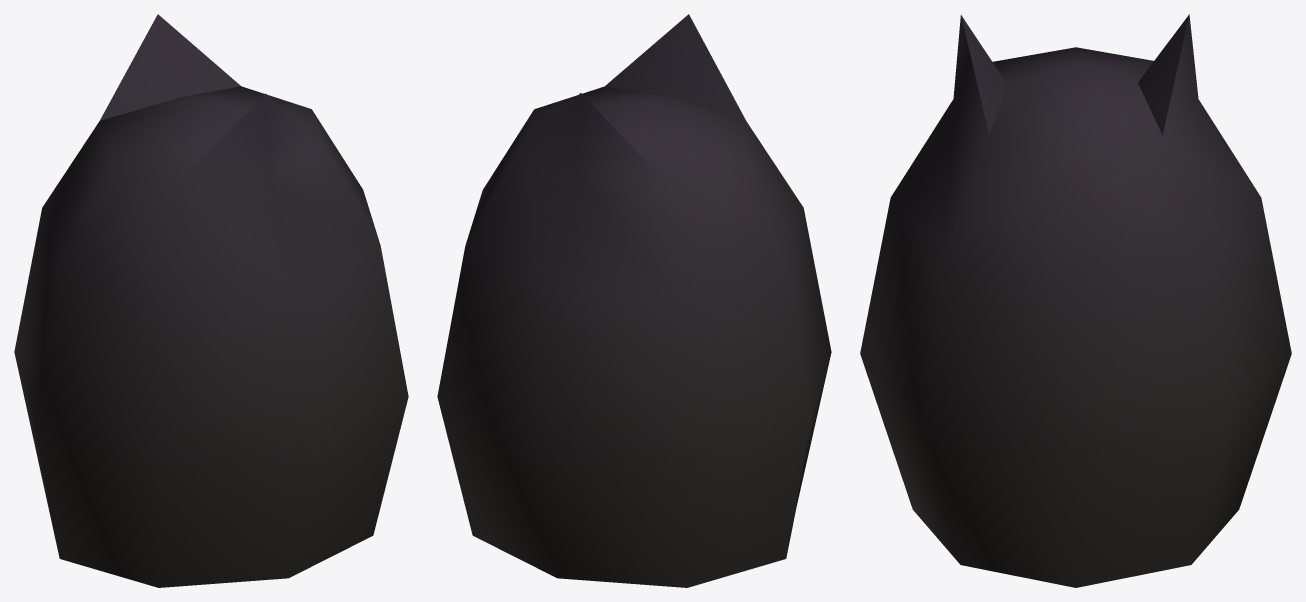
Rendered from owl.FBX.
The picture shows the model from 3 angles, left to right: view 1: azimuth 30°, elevation 25°; view 2: azimuth 150°, elevation 25°; view 3: azimuth 270°, elevation 25°; orthographic projection. The views are drawn at different scales.
Visible parts, largest first — view 1: owl; view 2: owl; view 3: owl.
Part boxes in pixels (left/top/right/bottom): owl: left=14, top=14, right=408, bottom=587; owl: left=437, top=14, right=831, bottom=587; owl: left=860, top=14, right=1291, bottom=587.
Size of the model in its own units: 7.41 by 10.41 by 7.41.
